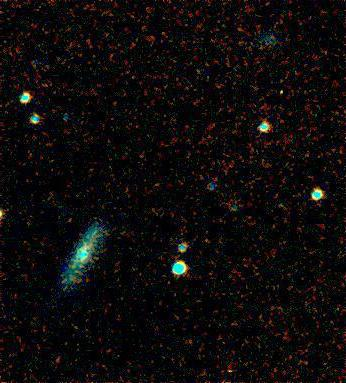star: (265, 73, 295, 103)
